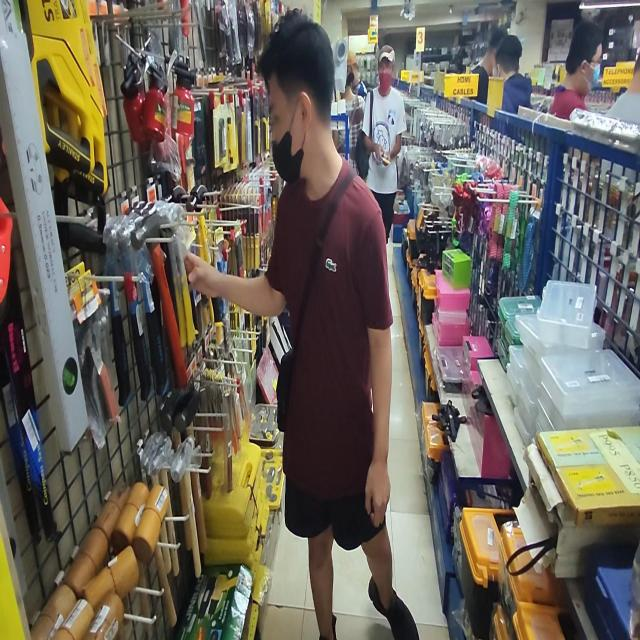hammer: (133, 213, 187, 387)
